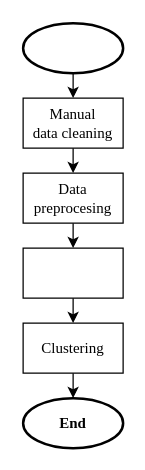
Some shapes in this 145 by 470 pixel diagram are drawn without their labels. Each missing label, with the box of its shape:
Dimensionality reduction: (22, 247, 123, 298)
Start: (21, 21, 124, 74)
